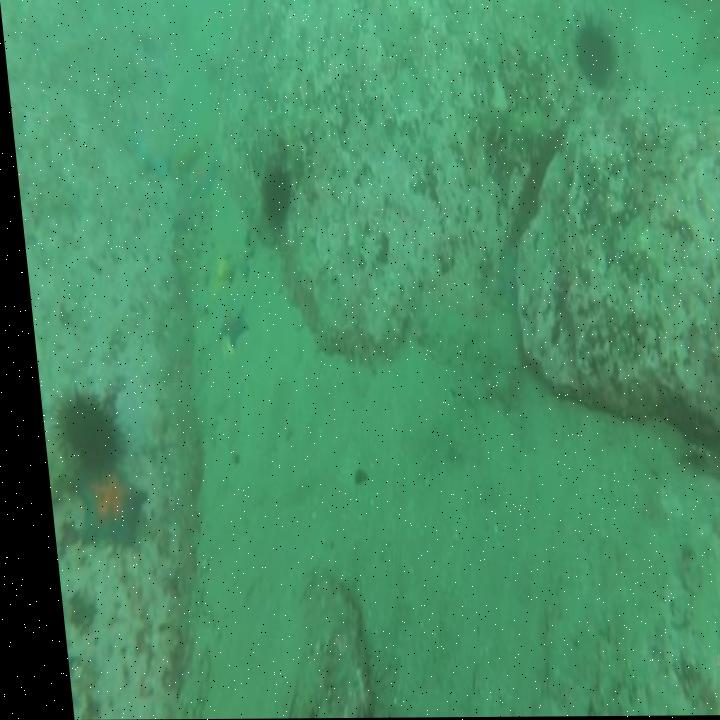echinus: (48, 402, 115, 473), (576, 25, 616, 85), (255, 173, 289, 228)
holothurian: (465, 100, 548, 157)
starfish: (62, 476, 139, 547), (120, 116, 175, 184), (184, 155, 214, 200), (210, 306, 243, 345), (718, 557, 720, 679)
